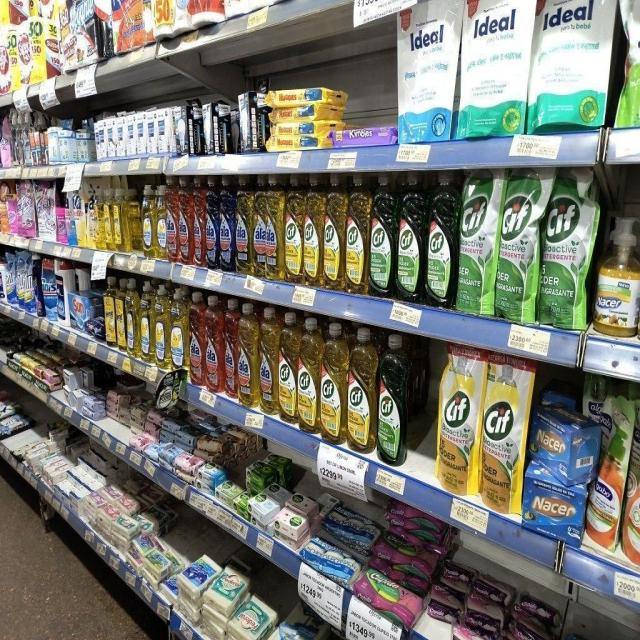ala_conc_amarillo: (238, 302, 258, 408), (259, 306, 278, 415), (267, 173, 284, 281), (236, 173, 252, 274), (252, 174, 267, 278)
ala_conc_azul: (219, 175, 235, 272), (205, 175, 219, 271)
ala_conc_rojo: (205, 294, 223, 393), (189, 291, 204, 387), (224, 298, 238, 399), (178, 176, 193, 266), (193, 175, 205, 268), (166, 176, 178, 262), (9, 0, 29, 22)
ala_sachet_amarillo: (0, 0, 9, 25)
cif_conc_bot_amarilla: (347, 326, 376, 453), (320, 321, 346, 443), (346, 172, 369, 294), (324, 172, 345, 290), (298, 316, 319, 433), (278, 310, 298, 423), (284, 172, 304, 284), (304, 172, 323, 286)
cif_conc_botella_verde: (425, 170, 456, 308), (377, 333, 407, 465), (396, 170, 424, 302), (370, 172, 394, 298)
cif_conc_sachet_amarillo: (437, 346, 479, 495), (482, 358, 522, 514)
cif_conc_sachet_verde: (541, 168, 590, 329), (496, 168, 538, 322), (456, 169, 494, 315)
magistral_con_amarillo: (171, 286, 188, 373), (155, 282, 170, 368), (140, 280, 154, 362), (126, 276, 140, 356), (142, 184, 156, 258), (156, 182, 166, 260)
